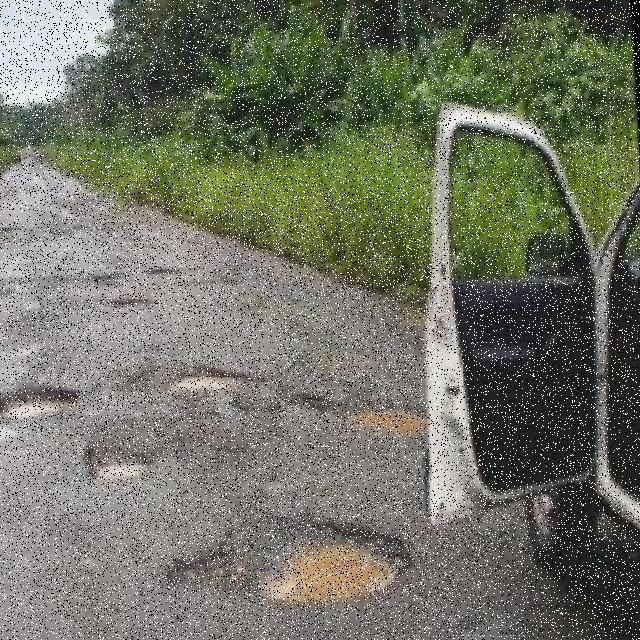pothole: (167, 514, 414, 609), (82, 435, 156, 481), (344, 404, 428, 439), (0, 385, 81, 421), (174, 365, 251, 394)
